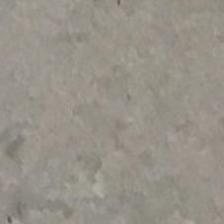Non_Crack: (18, 30, 211, 224)
